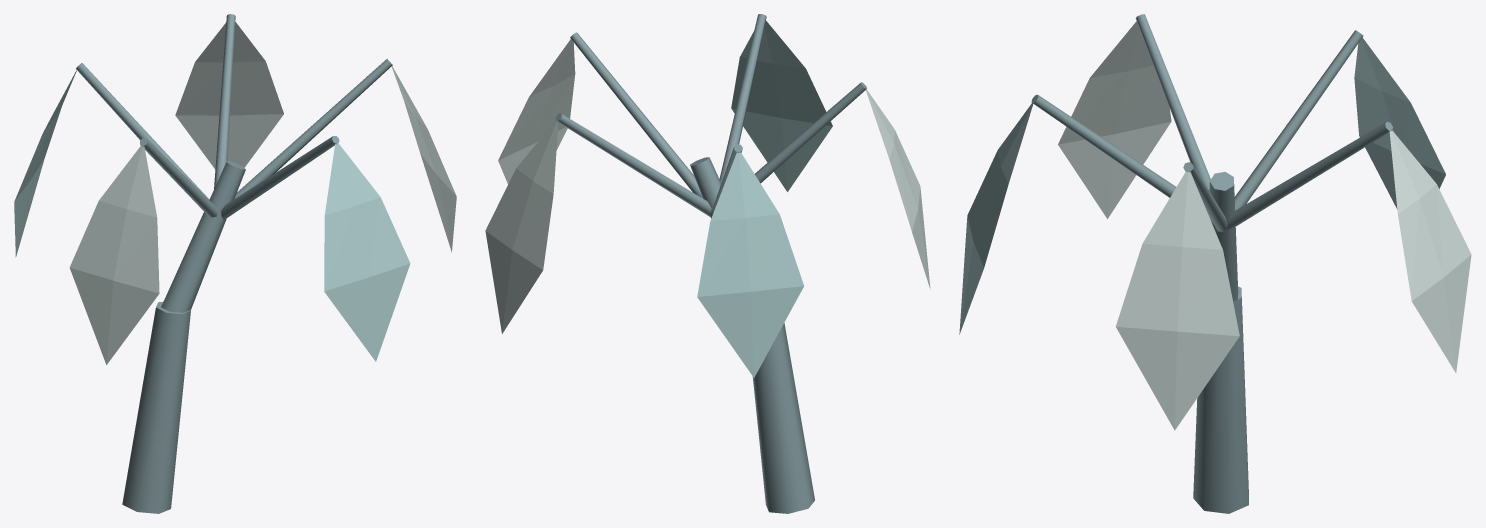
Rendered from tree-frostwillow.glb.
3 renders of one model, left to right at view 1: azimuth 30°, elevation 25°; view 2: azimuth 150°, elevation 25°; view 3: azimuth 270°, elevation 25°, orthographic. The views are drawn at different scales.
Visible parts, largest first — view 1: frond-7, frond-5, root-stem, frond-11, stem-1, frond-3, stem-2, frond-9, stem-10, stem-4, stem-8, stem-6; view 2: frond-9, frond-11, frond-5, root-stem, frond-3, frond-7, stem-2, stem-10, stem-4, stem-6, stem-1; view 3: frond-3, frond-7, frond-11, root-stem, frond-9, frond-5, stem-8, stem-10, stem-6, stem-4, stem-1, stem-2.
Part boxes in pixels (x1,y1,x2,y2): frond-7: (69,145,159,364); frond-5: (324,143,410,361); root-stem: (122,302,190,513); frond-11: (175,22,283,168); stem-1: (161,161,245,312); frond-3: (391,66,456,252); stem-2: (234,59,392,198); frond-9: (14,70,76,257); stem-10: (214,14,235,188); stem-4: (221,136,339,219); stem-8: (76,63,209,199); stem-6: (140,138,217,217); frond-9: (697,152,803,377); frond-11: (485,120,558,333); frond-5: (731,21,832,191); root-stem: (752,323,814,513); frond-3: (498,39,575,184); frond-7: (866,89,930,288); stem-2: (570,32,702,198); stem-10: (555,113,711,216); stem-4: (719,14,766,182); stem-6: (755,82,867,183); stem-1: (690,157,721,218); frond-3: (1115,171,1239,430); frond-7: (1058,21,1171,218); frond-11: (1389,130,1471,373); root-stem: (1193,286,1248,513); frond-9: (1354,37,1445,208); frond-5: (959,103,1033,334); stem-8: (1234,30,1363,210); stem-10: (1226,121,1392,230); stem-6: (1135,14,1210,190); stem-4: (1031,94,1213,226); stem-1: (1209,172,1238,301); stem-2: (1183,162,1227,231).
Size of the model in its own units: 4.55 by 4.58 by 4.55.
